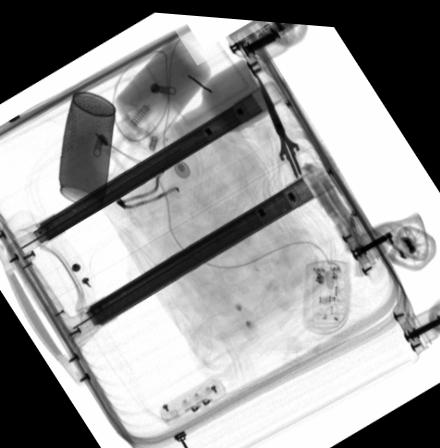Scissors: (253, 66, 321, 193)
